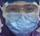with_mask: (1, 2, 40, 36)
